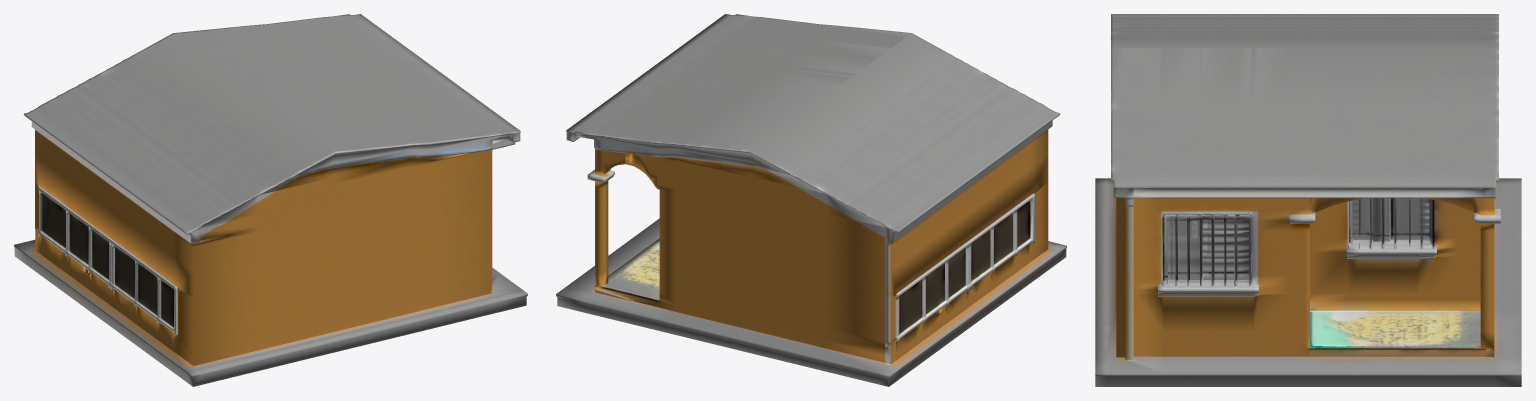
File: tripo_convert_644c7f59-5ef1-4916-9474-f34cd546b015.fbx
The picture shows the model from 3 angles, left to right: view 1: azimuth 30°, elevation 25°; view 2: azimuth 150°, elevation 25°; view 3: azimuth 270°, elevation 25°; orthographic projection. The views are drawn at different scales.
Parts seen in each view (by area): view 1: tripo_node_644c7f59; view 2: tripo_node_644c7f59; view 3: tripo_node_644c7f59.
Boxes of the visible parts, <box> form: tripo_node_644c7f59: <box>14,14,527,386</box>; tripo_node_644c7f59: <box>556,14,1066,386</box>; tripo_node_644c7f59: <box>1095,14,1521,386</box>.
Size of the model in its own units: 0.9957 by 0.5486 by 0.9157.
